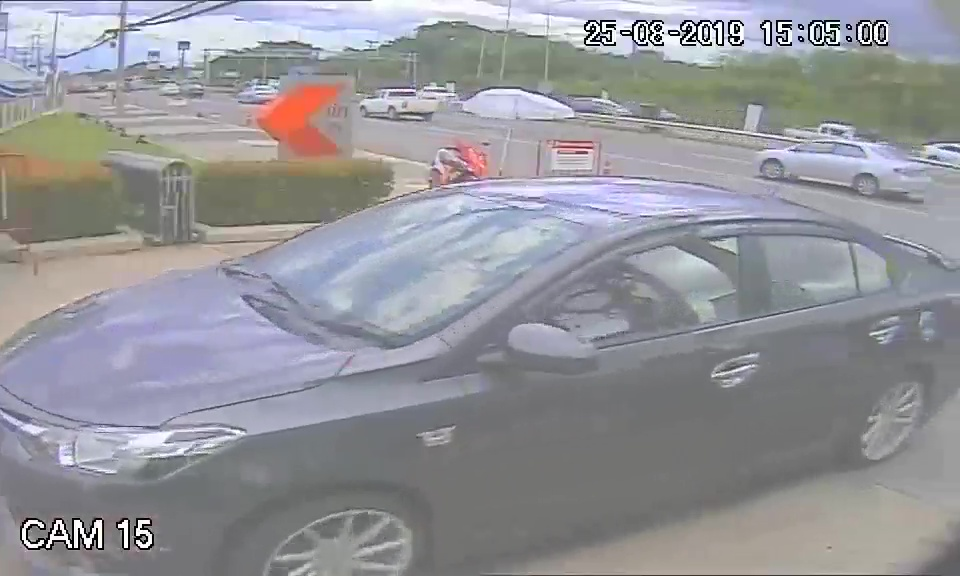sedan: (2, 173, 954, 555)
